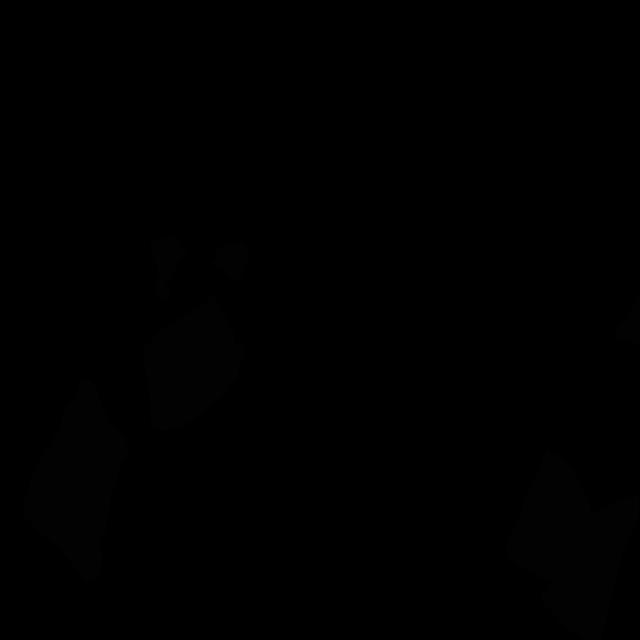cardboard: (506, 448, 640, 640), (24, 378, 129, 581), (142, 293, 244, 431), (151, 234, 188, 301), (211, 243, 250, 281), (612, 295, 640, 346)
